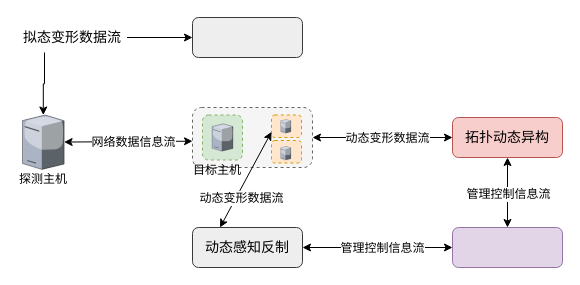
This 580x285 diagram has some shape labels left out. The shapes that lost their labels are listed below. From the top down, each one's centre as x and y in pixels, then its label:
At (247,37): "主机指纹跳变".
At (507,247): "系统管理子系统".
